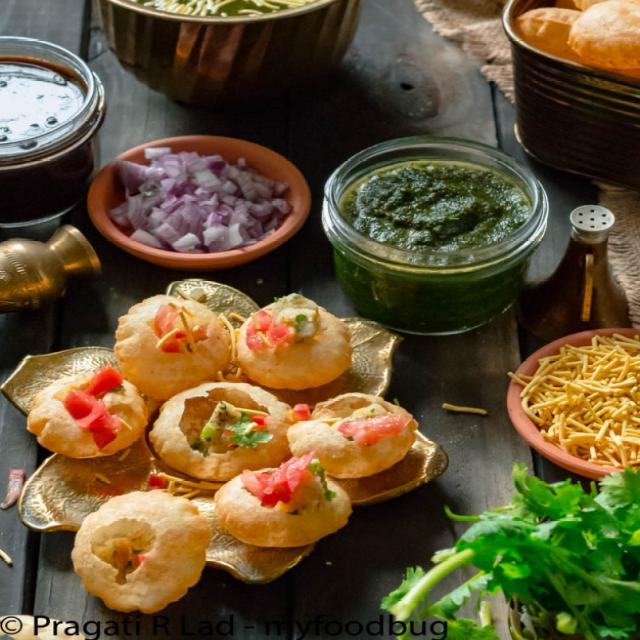paani_puri: (39, 296, 387, 562)
